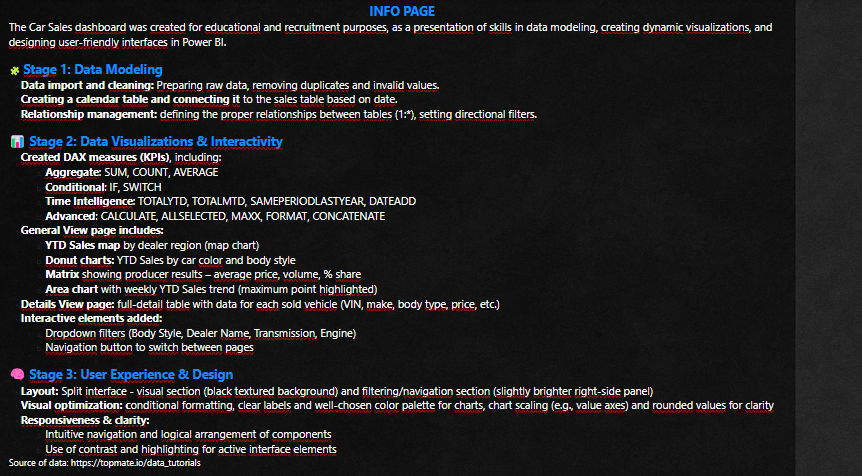

The page's visual inventory and layout, read from the dashboard file:
{"tool":"powerbi","page":{"name":"Info_page","canvas":[1280,720],"ordinal":0},"visuals":[{"type":"textbox","box":[9.2,0,1173.2,720.6],"z":0}]}

Visuals, with their boxes in screenshot pixels (x1, y1, x2, y2), scaled from the page's 1280x720 canvas onto the 862x476 screenshot:
textbox: select_region(6, 0, 796, 475)
